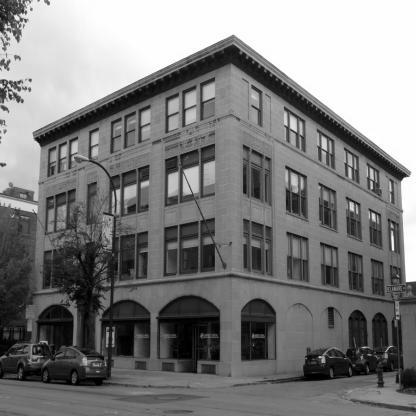car: (40, 343, 112, 387), (292, 343, 354, 394), (1, 337, 48, 383), (339, 343, 387, 377)
